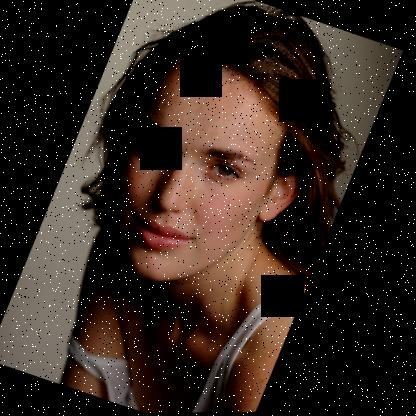Female: (78, 43, 340, 314)
